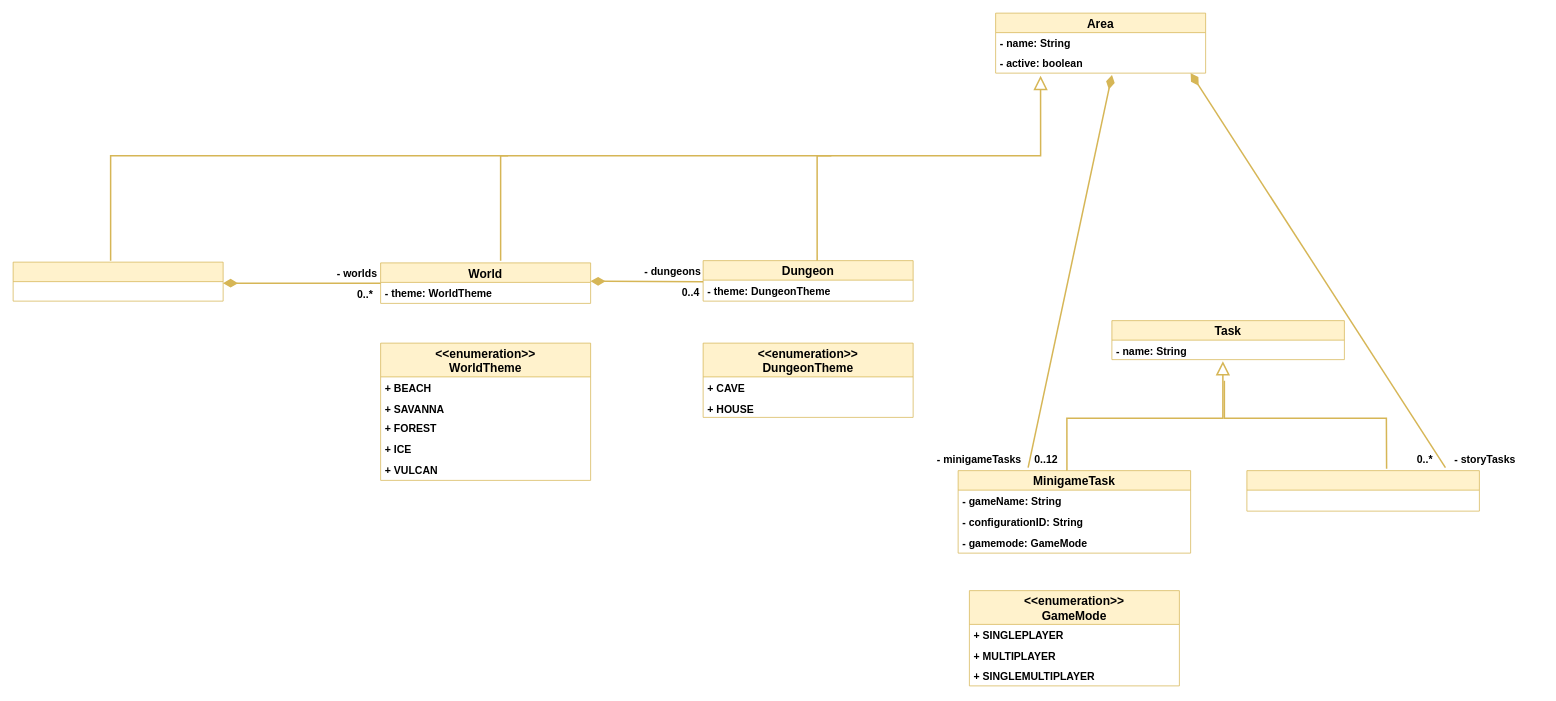
Some shapes in this 1556 by 701 pixel diagram are drawn without their labels. Here are the shapes that lost their labels. From the top down, the centre of each, then its label:
At point (117, 281): "Overworld".
At point (1362, 490): "StoryTask".
